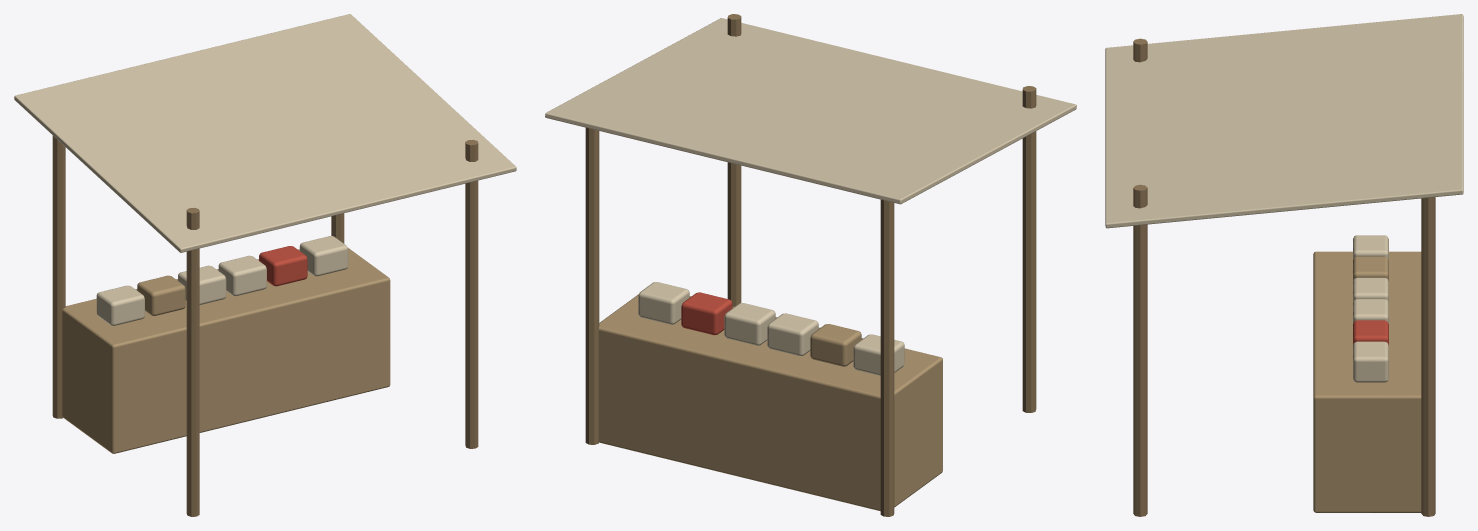
The model's file is stall_2.glb.
3 renders of one model, left to right at view 1: azimuth 30°, elevation 25°; view 2: azimuth 150°, elevation 25°; view 3: azimuth 270°, elevation 25°, orthographic. The views are drawn at different scales.
Visible parts, largest first — view 1: Awning, Counter, Post, Post.002, Post.001, Goods, Goods.005, Goods.003, Goods.004, Goods.001, Goods.002; view 2: Awning, Counter, Post.001, Post.003, Post, Post.002, Goods.002, Goods.004, Goods.001, Goods.003, Goods.005, Goods; view 3: Awning, Counter, Post.003, Post.002, Goods.005, Goods.002, Goods.004, Goods, Goods.001, Goods.003.
Boxes of the visible parts, left/top/right/bottom form: Awning: left=14, top=14, right=516, bottom=252; Counter: left=62, top=247, right=390, bottom=453; Post: left=186, top=207, right=199, bottom=516; Post.002: left=465, top=139, right=478, bottom=448; Post.001: left=52, top=135, right=65, bottom=418; Goods: left=96, top=285, right=144, bottom=325; Goods.005: left=299, top=236, right=348, bottom=276; Goods.003: left=218, top=255, right=266, bottom=296; Goods.004: left=259, top=246, right=307, bottom=286; Goods.001: left=137, top=275, right=185, bottom=315; Goods.002: left=178, top=265, right=226, bottom=304; Awning: left=545, top=18, right=1076, bottom=204; Counter: left=598, top=294, right=942, bottom=511; Post.001: left=880, top=199, right=894, bottom=516; Post.003: left=585, top=127, right=599, bottom=444; Post: left=1022, top=86, right=1036, bottom=412; Post.002: left=727, top=14, right=741, bottom=306; Goods.002: left=767, top=313, right=818, bottom=356; Goods.004: left=681, top=292, right=732, bottom=335; Goods.001: left=810, top=324, right=861, bottom=366; Goods.003: left=724, top=303, right=775, bottom=345; Goods.005: left=638, top=282, right=689, bottom=324; Goods: left=853, top=334, right=904, bottom=375; Awning: left=1105, top=14, right=1463, bottom=228; Counter: left=1313, top=251, right=1421, bottom=512; Post.003: left=1421, top=197, right=1435, bottom=516; Post.002: left=1133, top=184, right=1147, bottom=516; Goods.005: left=1353, top=341, right=1388, bottom=382; Goods.002: left=1353, top=277, right=1388, bottom=302; Goods.004: left=1353, top=320, right=1388, bottom=345; Goods: left=1353, top=235, right=1388, bottom=259; Goods.001: left=1353, top=256, right=1388, bottom=281; Goods.003: left=1353, top=299, right=1388, bottom=323.
Bounding box in the file's own units: 2.9 × 2.6 × 2.49.
